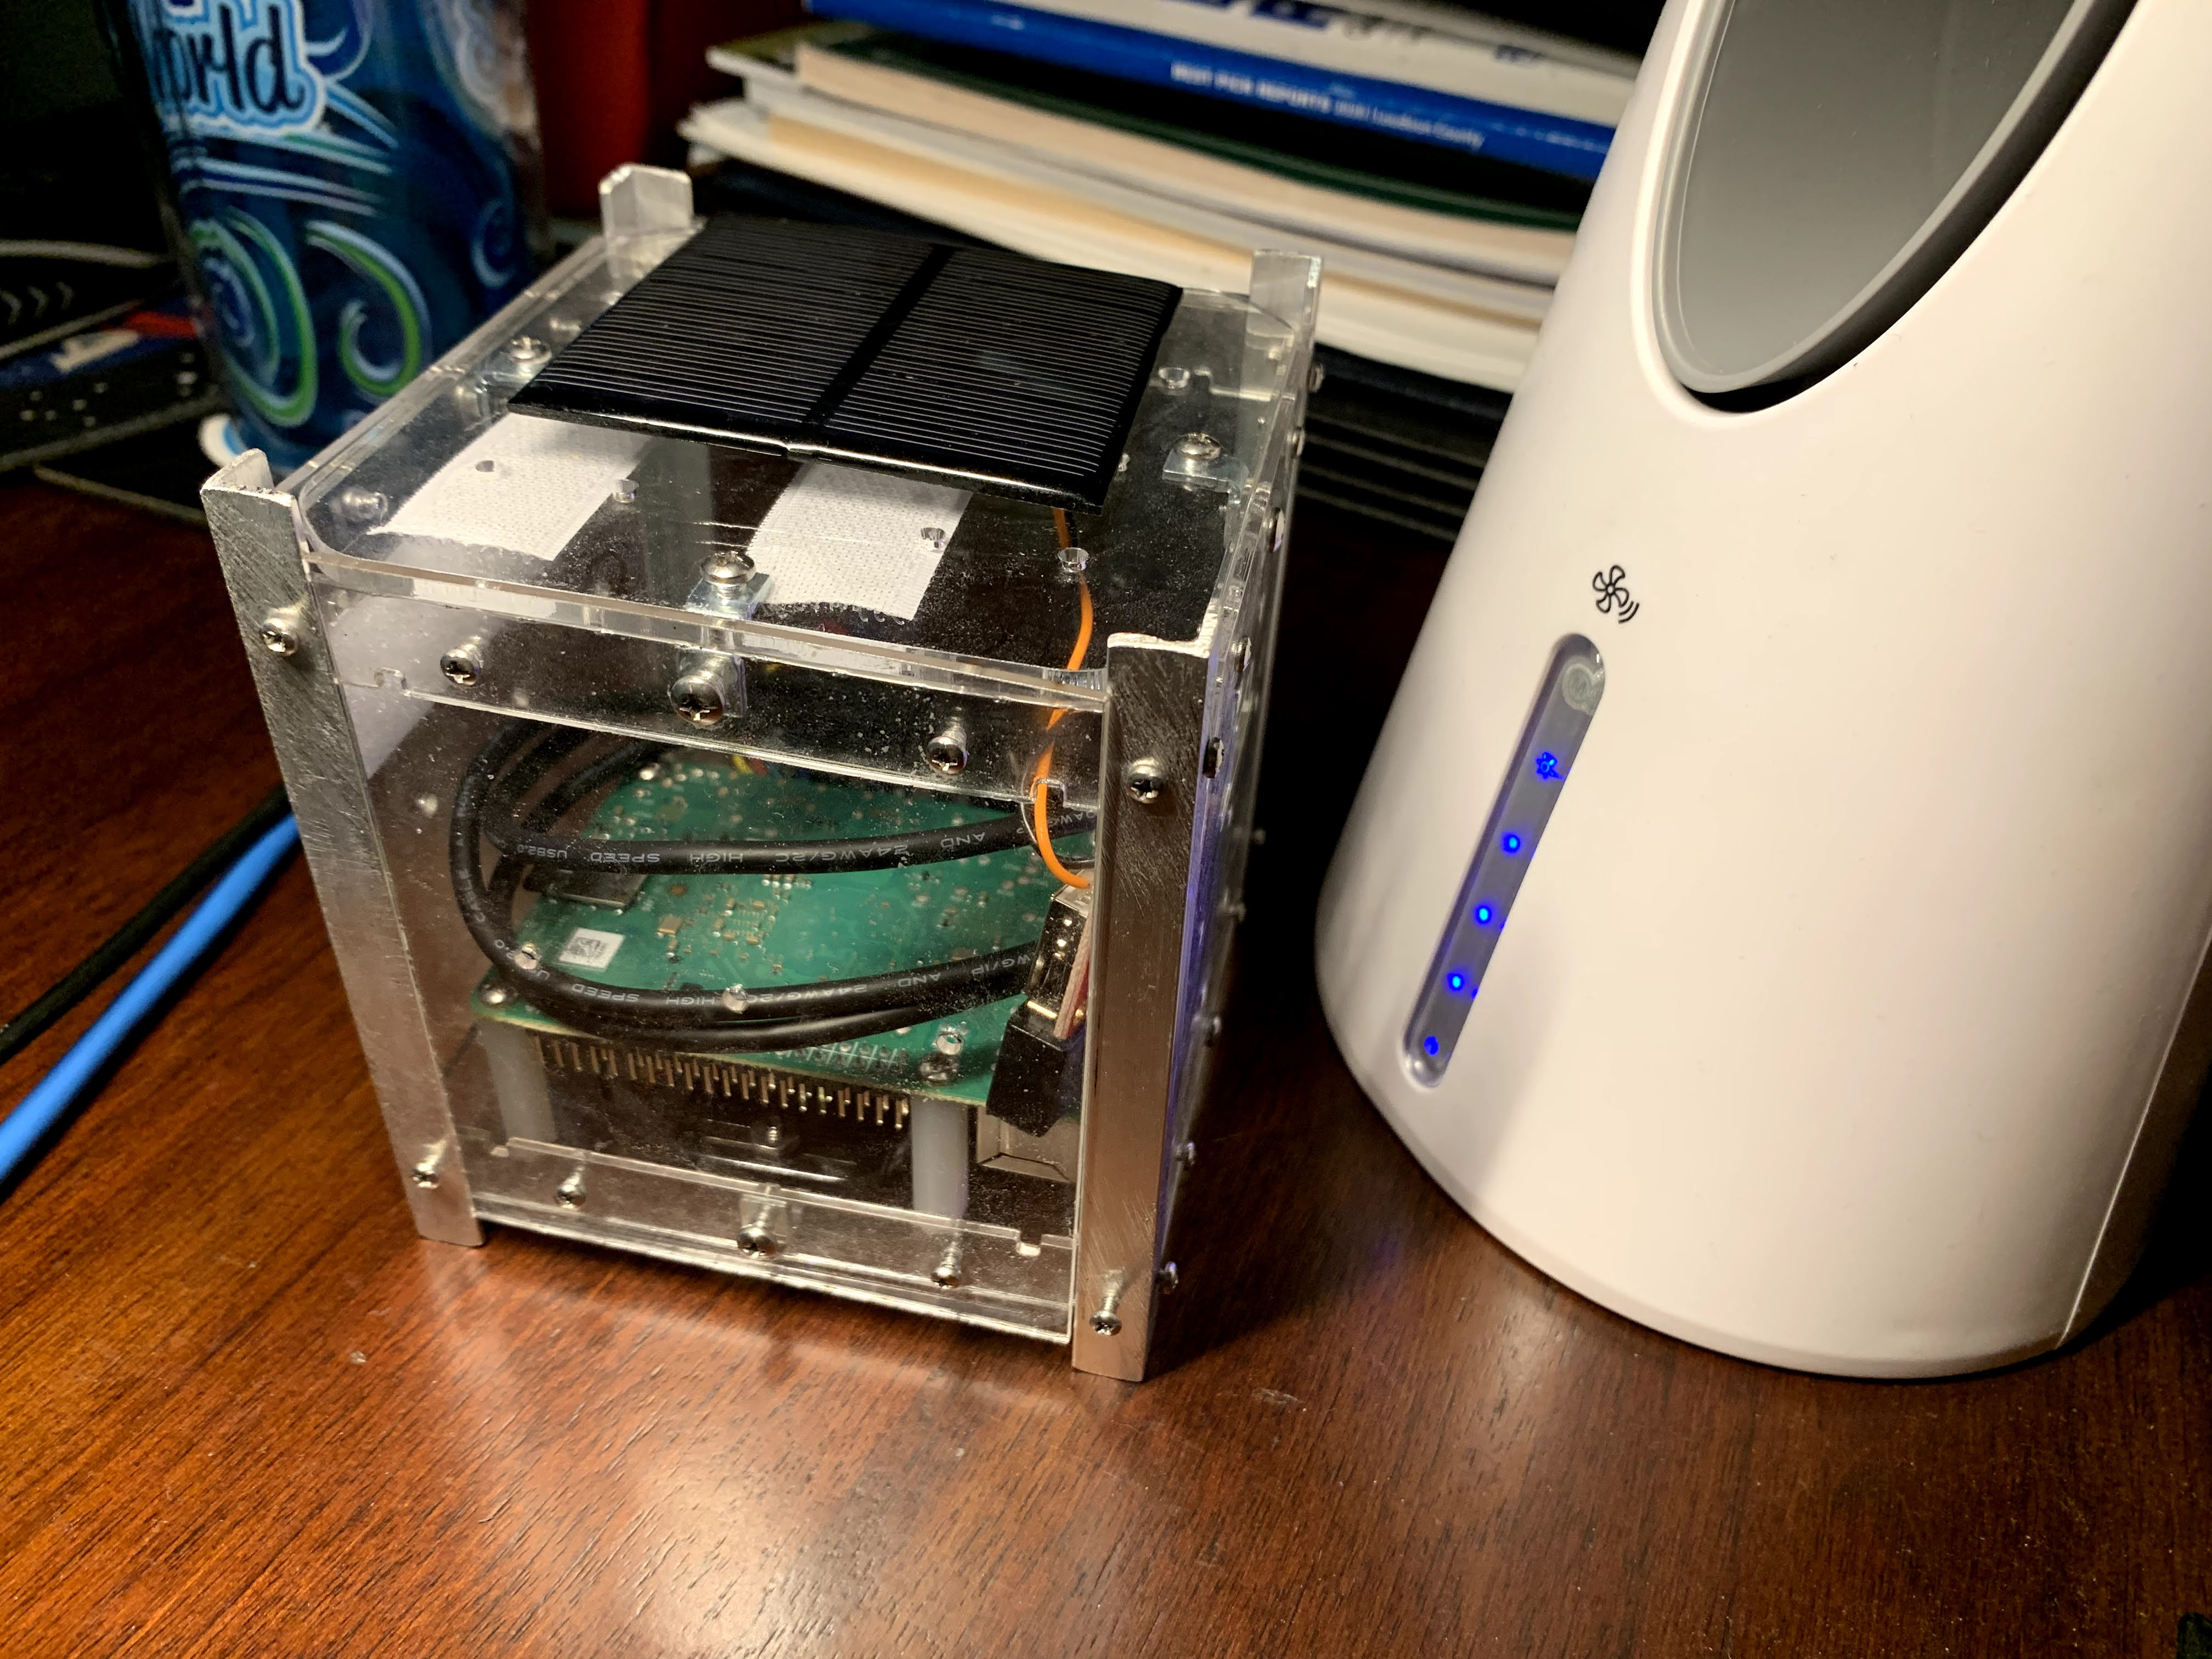Space-debris-cubesat: (197, 85, 1423, 1452)
